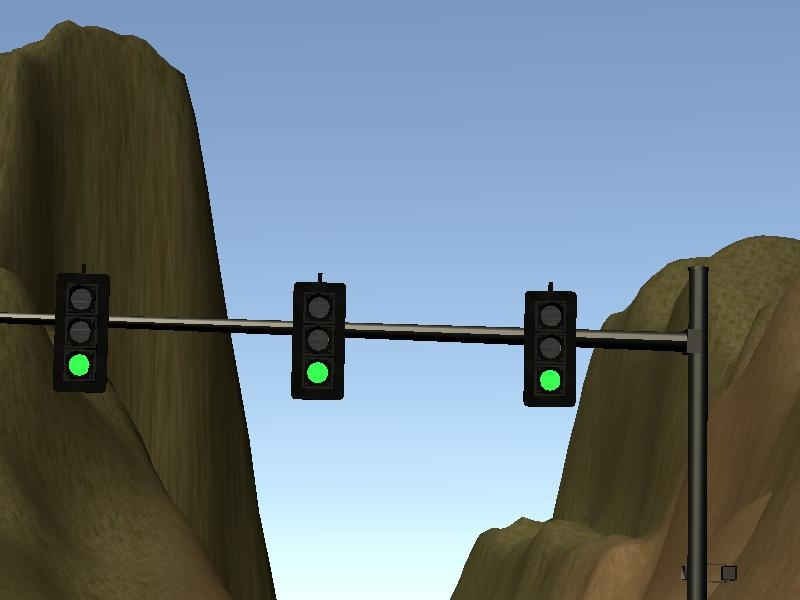GREEN: (53, 272, 106, 392), (292, 283, 344, 397), (524, 291, 575, 406)
